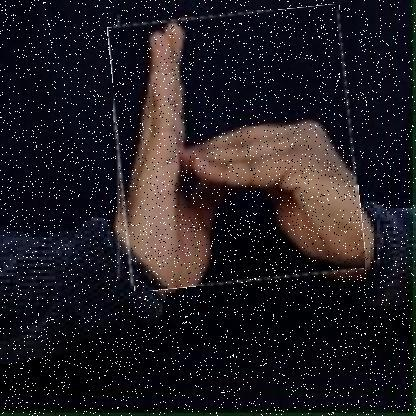Z: (114, 10, 360, 287)
